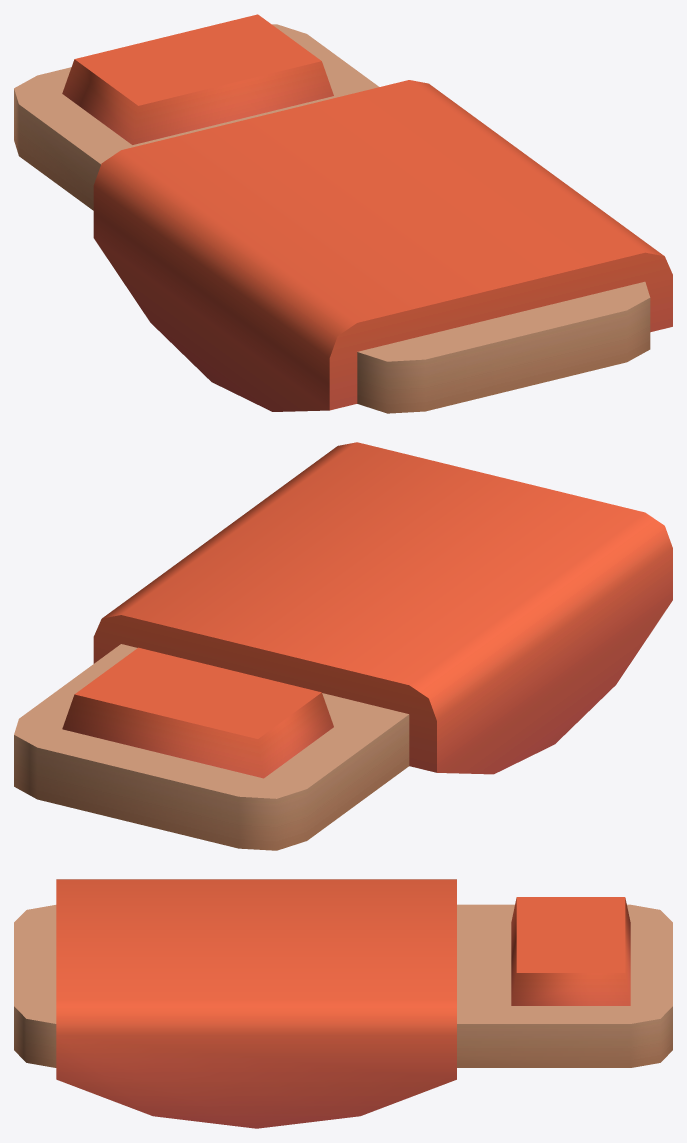
The model's file is bedroll.gltf.
3 renders of one model, top to bottom at view 1: azimuth 30°, elevation 25°; view 2: azimuth 150°, elevation 25°; view 3: azimuth 270°, elevation 25°, orthographic. The views are drawn at different scales.
Visible parts, largest first — view 1: blanket, bedroll; view 2: blanket, bedroll; view 3: blanket, bedroll.
Boxes of the visible parts, bbox=[...] form: blanket: bbox=[93, 80, 672, 411]; bedroll: bbox=[14, 14, 650, 413]; blanket: bbox=[93, 442, 672, 774]; bedroll: bbox=[14, 644, 409, 850]; blanket: bbox=[56, 879, 456, 1128]; bedroll: bbox=[14, 897, 672, 1067].
Bounding box in the file's own units: 0.3104 × 0.1248 × 0.6076.
1 material, 1 textured.
